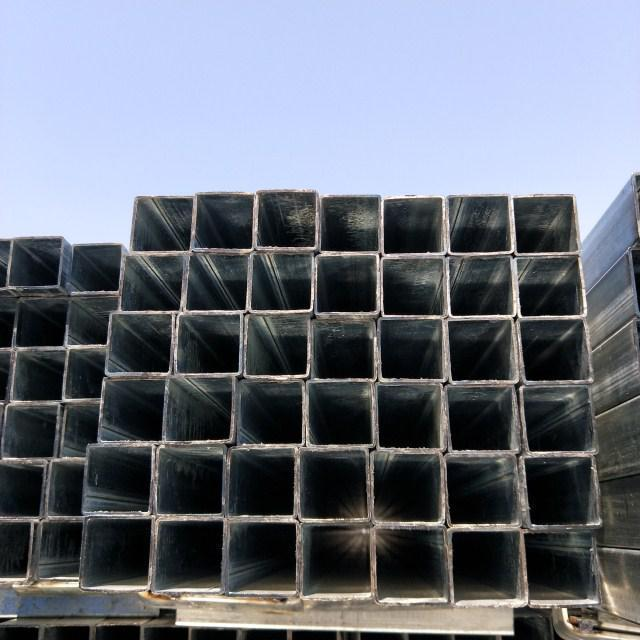pipe: (295, 517, 379, 604), (370, 520, 454, 605), (220, 516, 303, 602), (442, 450, 529, 531), (150, 512, 230, 600), (520, 454, 608, 531), (519, 382, 605, 459), (449, 524, 526, 610), (294, 442, 374, 524), (77, 514, 156, 595), (440, 382, 526, 456), (522, 529, 604, 606), (151, 440, 229, 519), (222, 443, 302, 520), (367, 449, 446, 526), (442, 312, 524, 386), (230, 376, 309, 449), (514, 316, 596, 386), (80, 441, 156, 516), (372, 380, 449, 453), (303, 378, 380, 450), (374, 315, 454, 384), (181, 247, 259, 316), (162, 374, 236, 446), (514, 251, 590, 320), (379, 250, 451, 322), (312, 250, 383, 320), (99, 374, 168, 446), (247, 247, 321, 314), (446, 250, 516, 320), (104, 310, 176, 377), (173, 312, 247, 377), (310, 314, 379, 383), (509, 192, 583, 256), (443, 192, 518, 255), (241, 312, 310, 379), (314, 193, 386, 256), (254, 188, 322, 254), (378, 194, 449, 257), (118, 250, 190, 312), (191, 188, 257, 255), (128, 192, 196, 256), (32, 514, 84, 587), (10, 292, 72, 351), (1, 402, 61, 462), (5, 236, 70, 290), (65, 240, 128, 295), (10, 344, 65, 404), (54, 397, 102, 462), (68, 290, 119, 350), (44, 454, 88, 521), (0, 459, 47, 521), (59, 345, 109, 402), (0, 522, 36, 580)
